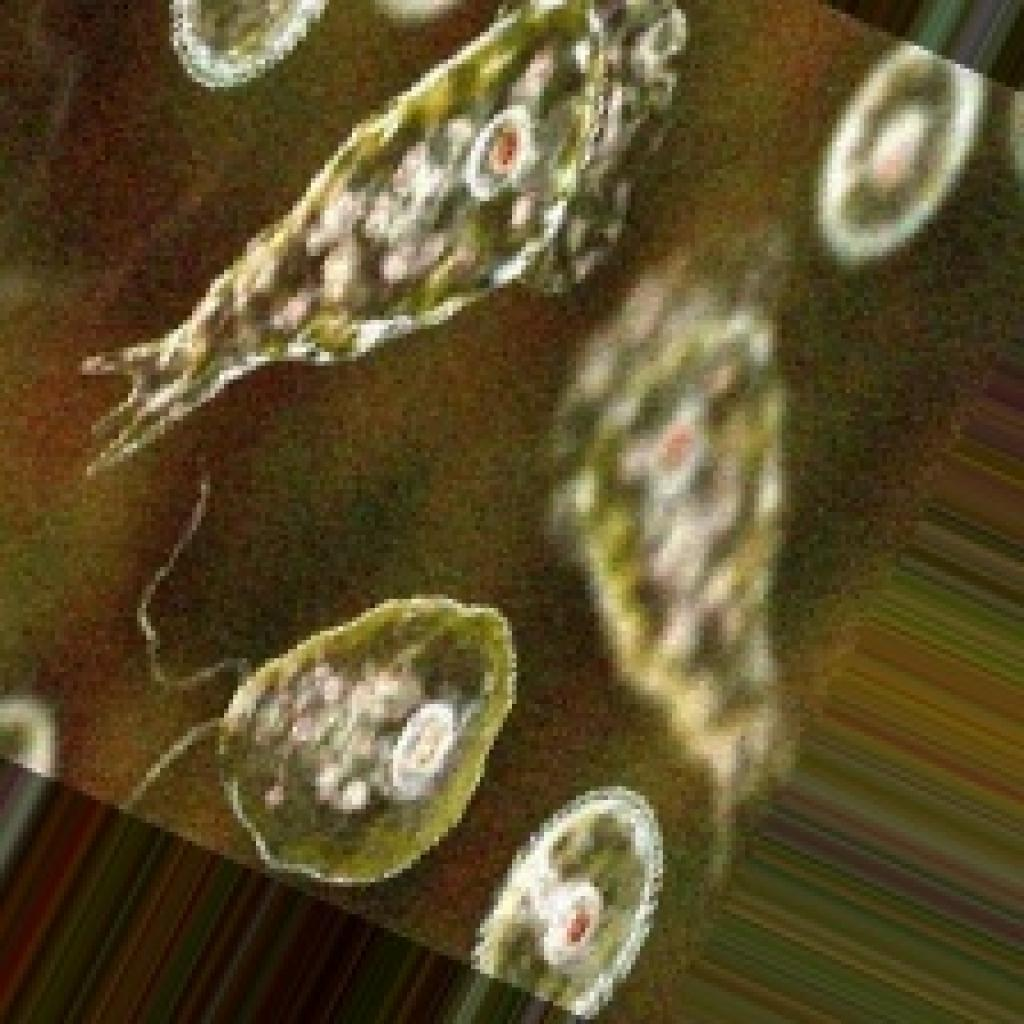Amoeba: (10, 6, 754, 487), (66, 534, 718, 1019)
